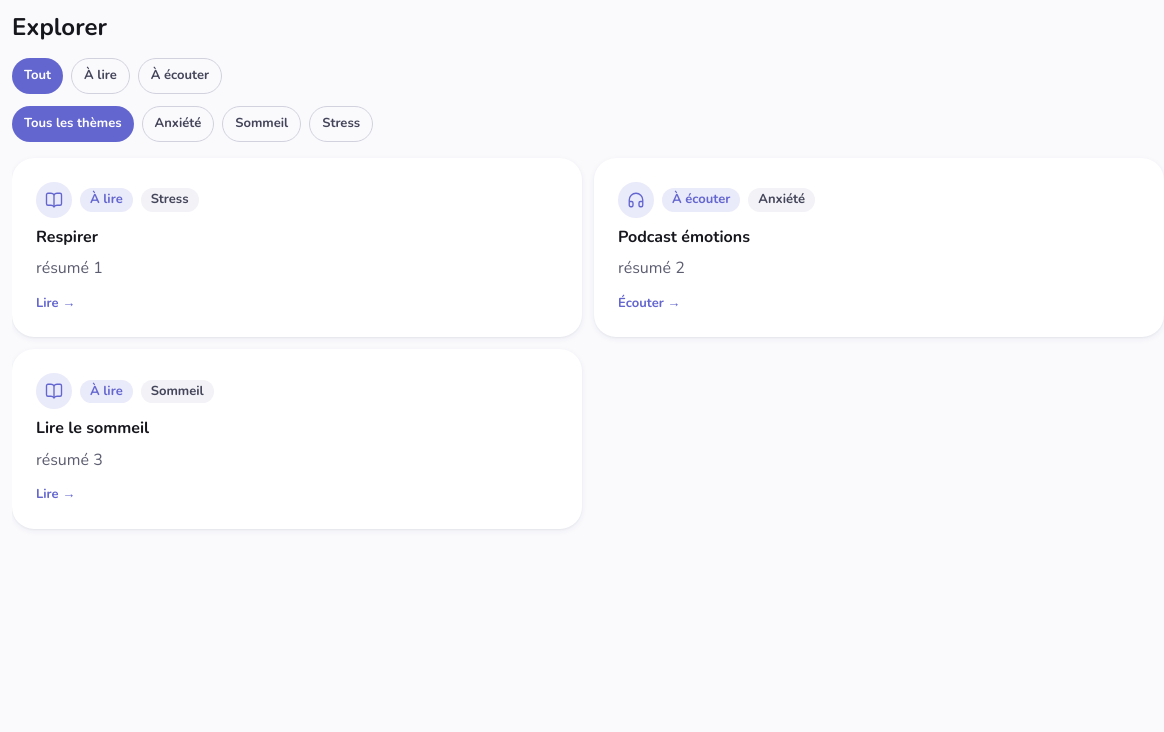
ResourceCatalog - filtres › filtre par format
The width and height of the screenshot is (1164, 732).
Step 1. Click the button "À écouter" → (180,76), box [138,58,222,94]
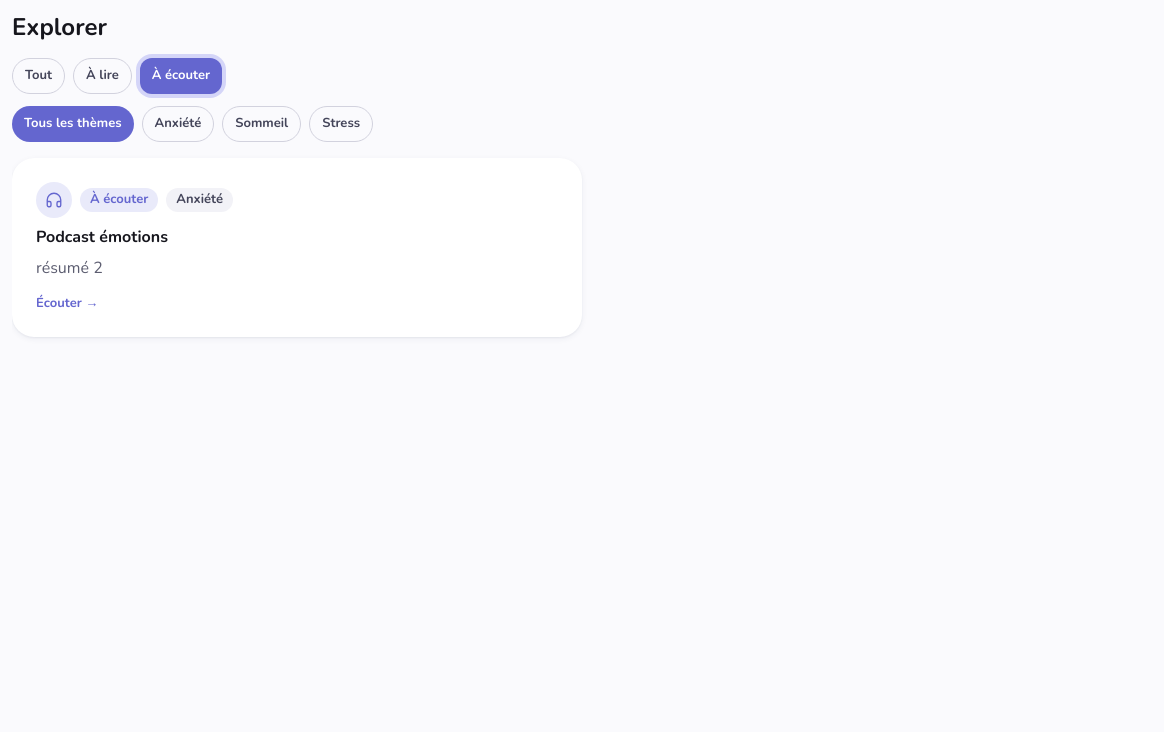
expect the link "À écouter Anxiété Podcast émotions résumé 2 Écouter →" is shown: met, box [12,158,582,338]
expect the link "Respirer" is gone: met
